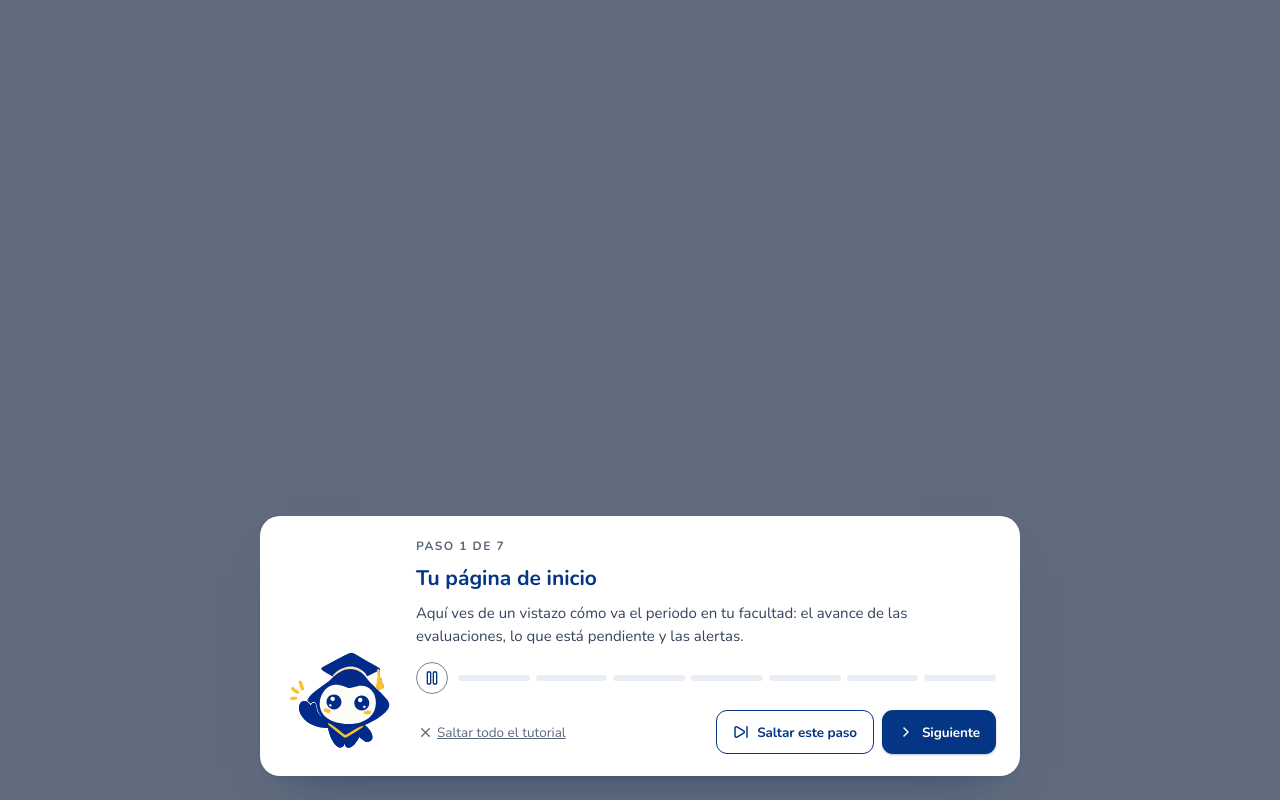
TutorialGuiado › en el primer inicio bloquea la pantalla y recorre los pasos del coordinador
This screenshot has width=1280, height=800.
Expected: the text "Paso 1 de 7" is shown, x1=416 y1=538 x2=505 y2=554
Click the button "Saltar este paso". click: (795, 732)
box: x1=716 y1=710 x2=874 y2=754
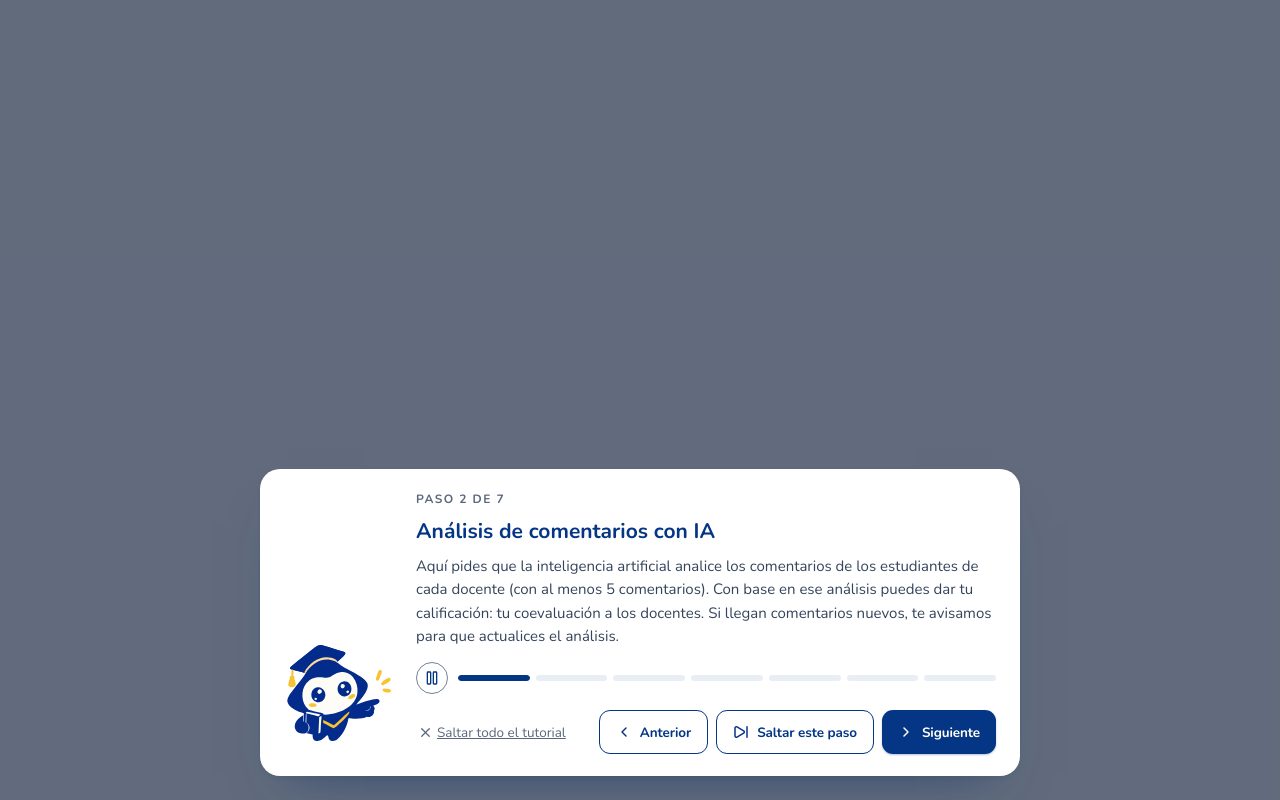
Result: the heading "Análisis de comentarios con IA" is shown at x1=416 y1=517 x2=715 y2=545
Result: the text "puedes dar tu calificación: tu coevaluación" is shown at x1=416 y1=556 x2=992 y2=646
Click the button "Anterior". click: (654, 732)
box: x1=599 y1=710 x2=708 y2=754
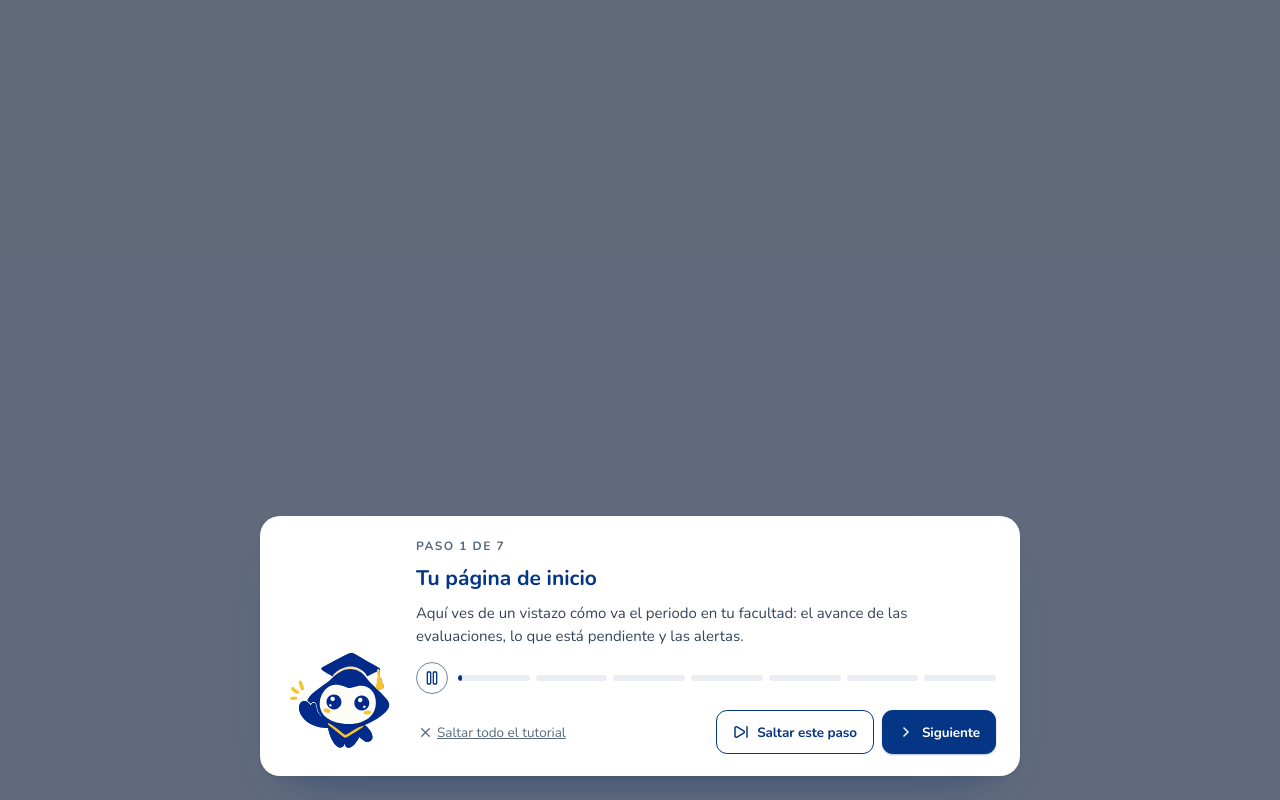
Result: the text "Paso 1 de 7" is shown at x1=416 y1=538 x2=505 y2=554
